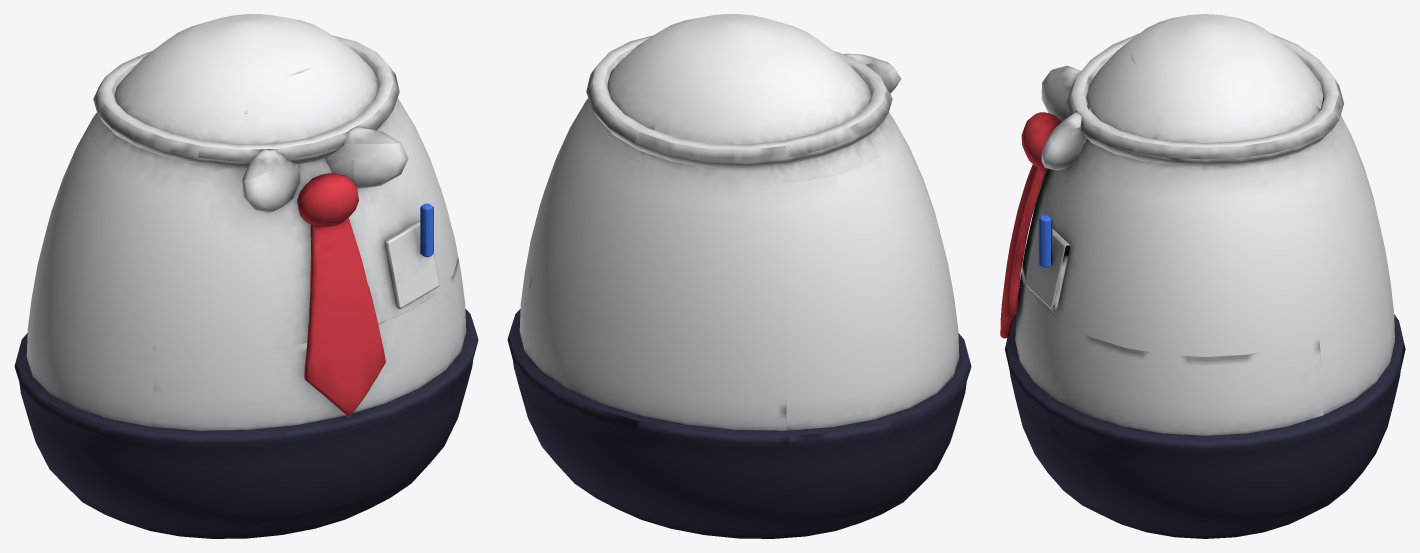
Rendered from char_torso_shirt_tie.glb.
The picture shows the model from 3 angles, left to right: view 1: azimuth 30°, elevation 25°; view 2: azimuth 150°, elevation 25°; view 3: azimuth 270°, elevation 25°; orthographic projection. The views are drawn at different scales.
Parts seen in each view (by area): view 1: Chest, char_torso_shirt_tie; view 2: Chest, char_torso_shirt_tie; view 3: Chest, char_torso_shirt_tie.
Boxes of the visible parts, bbox=[...] form: Chest: bbox=[35, 14, 457, 417]; char_torso_shirt_tie: bbox=[14, 256, 478, 538]; Chest: bbox=[528, 14, 950, 350]; char_torso_shirt_tie: bbox=[507, 256, 971, 538]; Chest: bbox=[1000, 14, 1387, 356]; char_torso_shirt_tie: bbox=[1005, 267, 1405, 538].
Size of the model in its own units: 0.5186 by 0.569 by 0.4457.
Materials: 4 (4 with a texture image).
